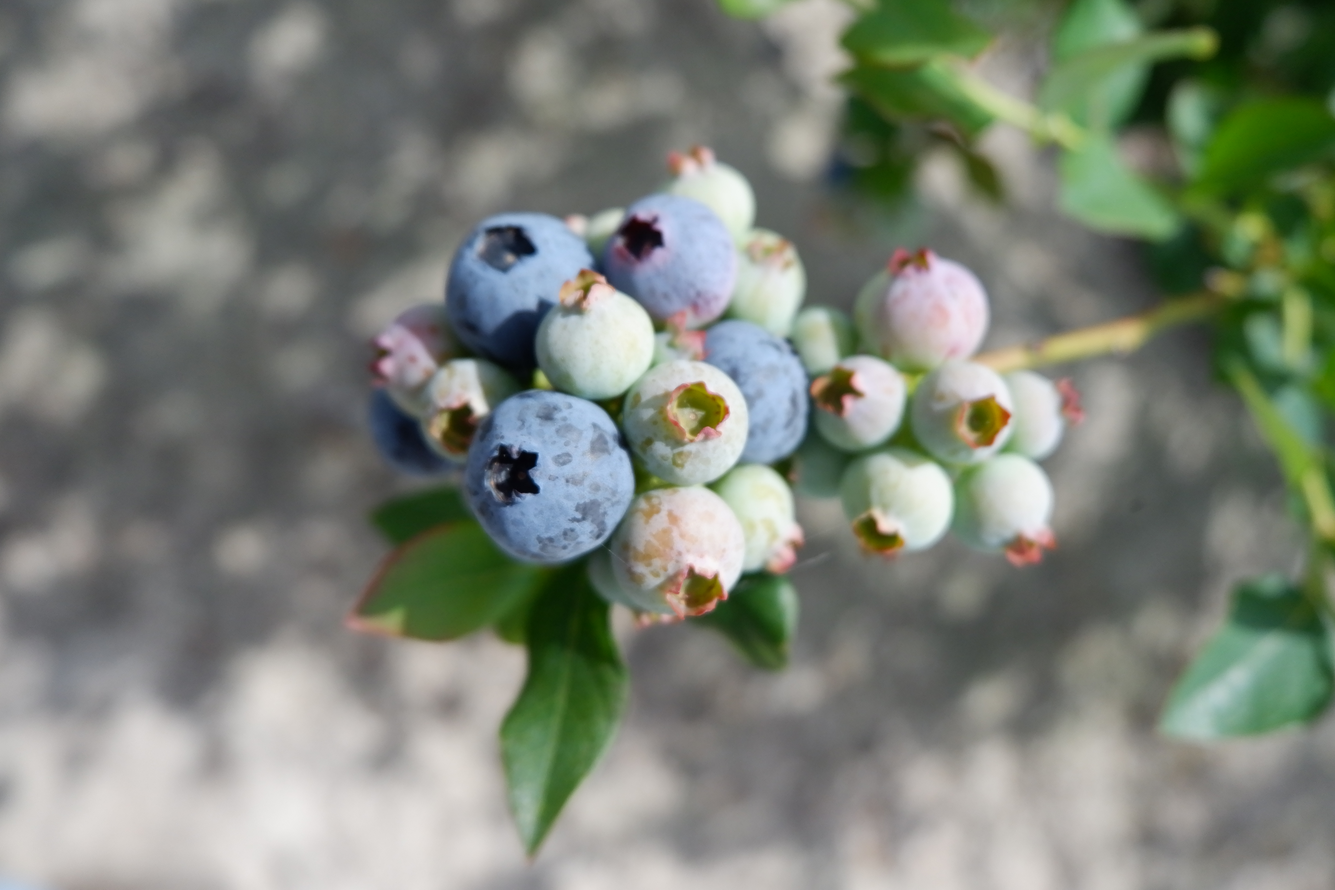Immature: (609, 488, 742, 614), (863, 250, 986, 372), (624, 361, 747, 482), (537, 275, 651, 396), (842, 447, 953, 547), (912, 363, 1013, 462), (956, 457, 1053, 560), (714, 466, 802, 570), (422, 360, 518, 455), (374, 307, 461, 404), (814, 357, 904, 449), (729, 232, 804, 333), (668, 148, 754, 231), (1004, 374, 1081, 459), (792, 309, 857, 374), (589, 549, 642, 609)
Mature: (462, 395, 632, 562), (446, 217, 590, 369), (601, 196, 736, 325), (705, 321, 810, 462), (366, 386, 453, 478)
